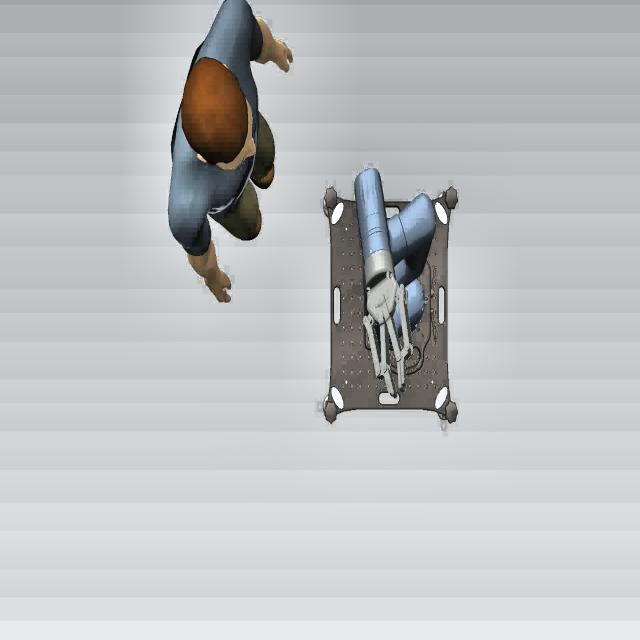robot: (322, 166, 460, 429)
